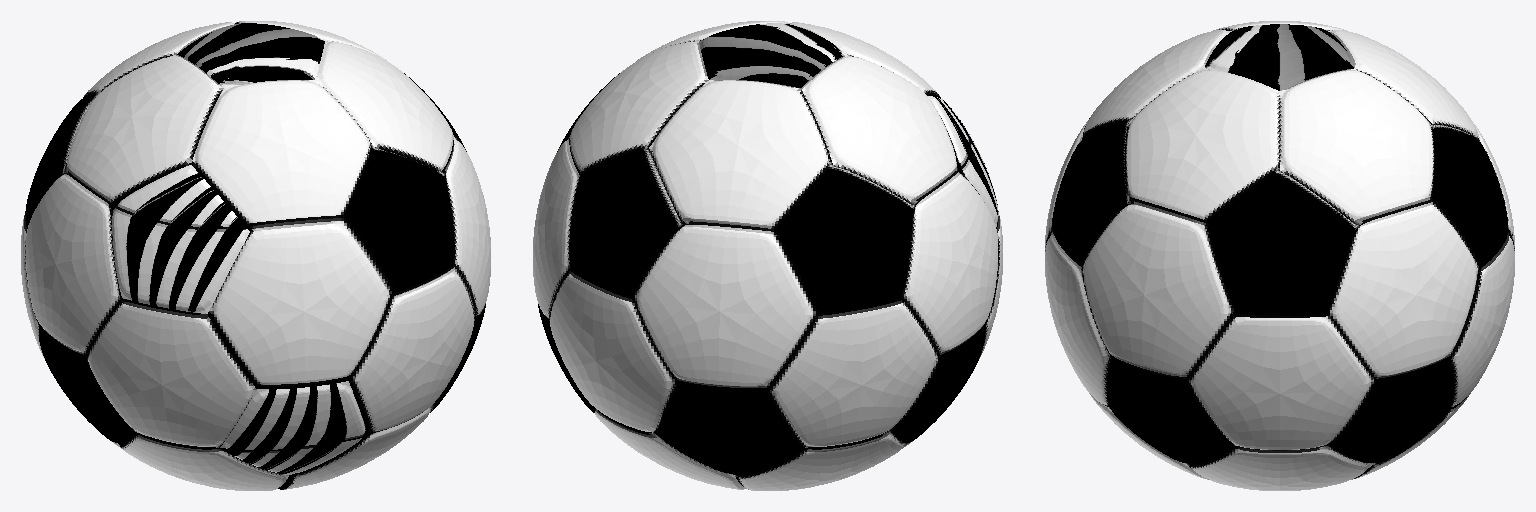
3 renders of one model, left to right at view 1: azimuth 30°, elevation 25°; view 2: azimuth 150°, elevation 25°; view 3: azimuth 270°, elevation 25°, orthographic.
Visible parts, largest first — view 1: Icosphere; view 2: Icosphere; view 3: Icosphere.
Boxes of the visible parts, <box> form: Icosphere: <box>21,21,490,490</box>; Icosphere: <box>533,21,1002,490</box>; Icosphere: <box>1045,21,1514,490</box>.
Bounding box in the file's own units: 1.69 × 1.69 × 1.69.
1 materials, 1 textured.